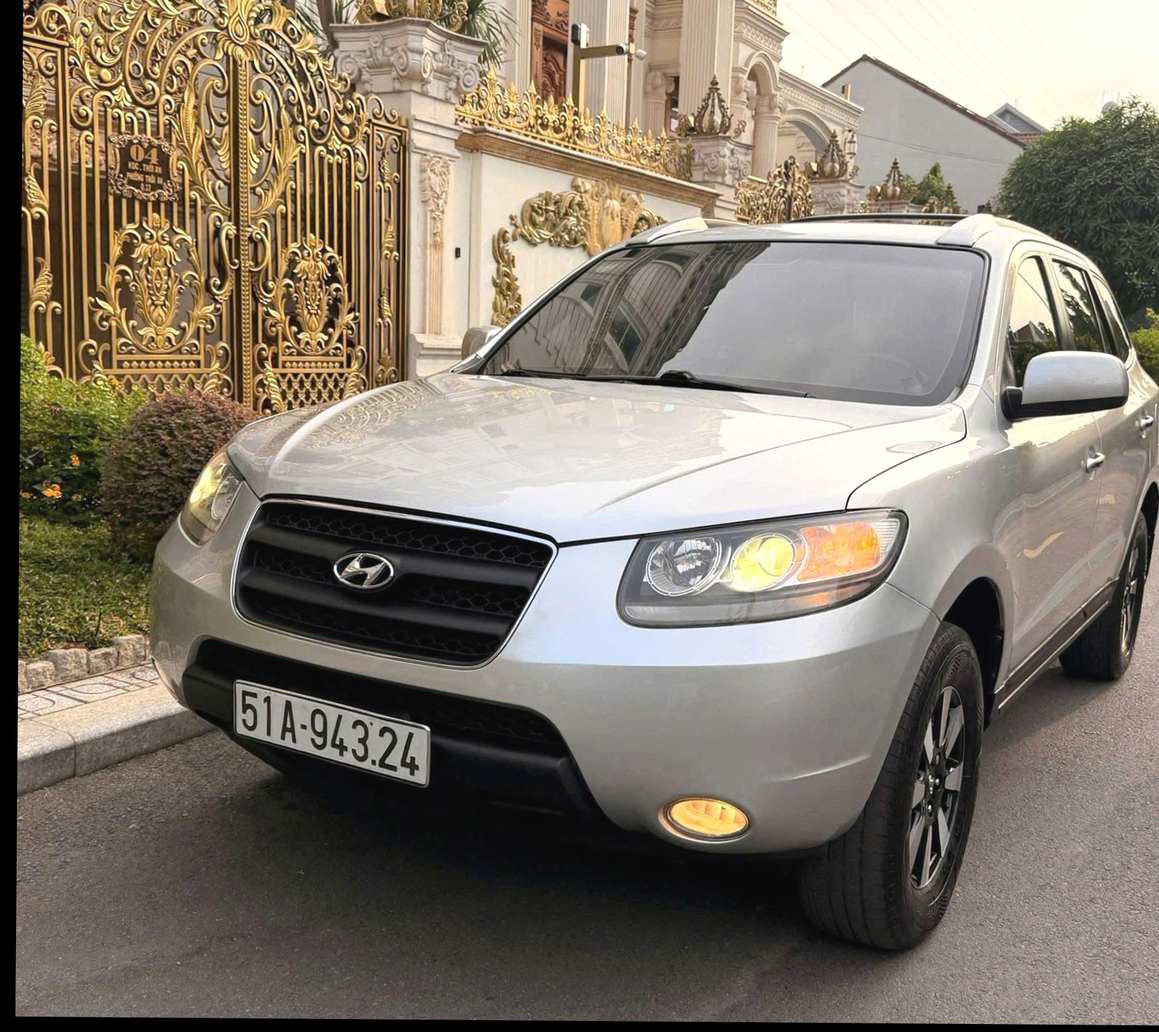Bien-so: (207, 710, 408, 814)
